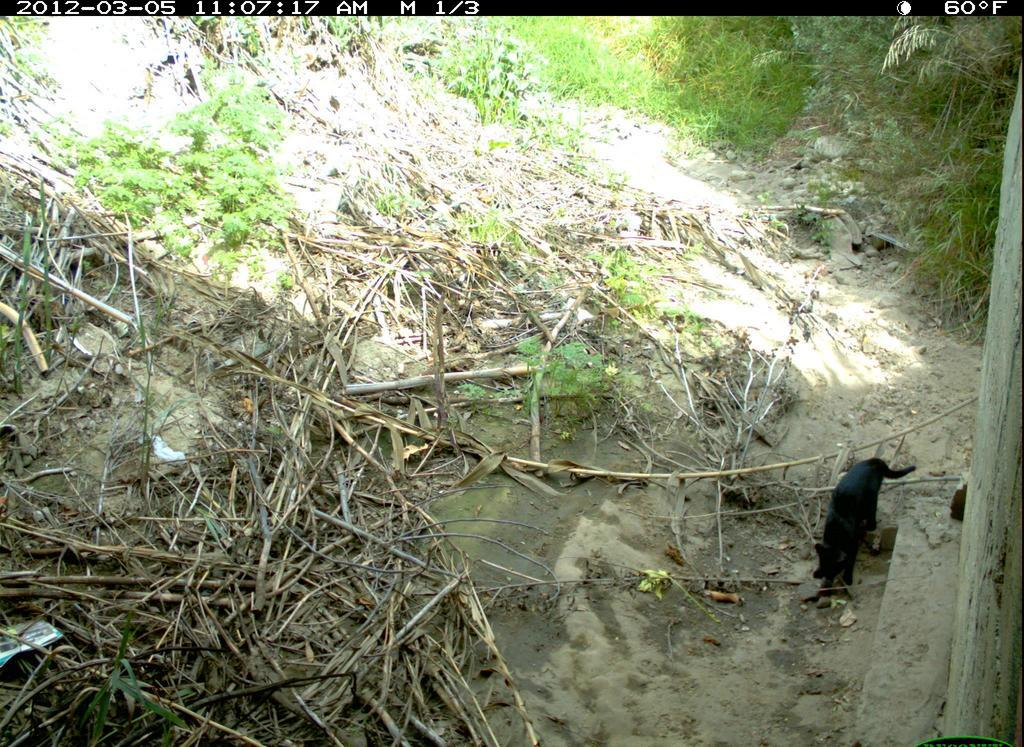cat: (811, 452, 922, 602)
